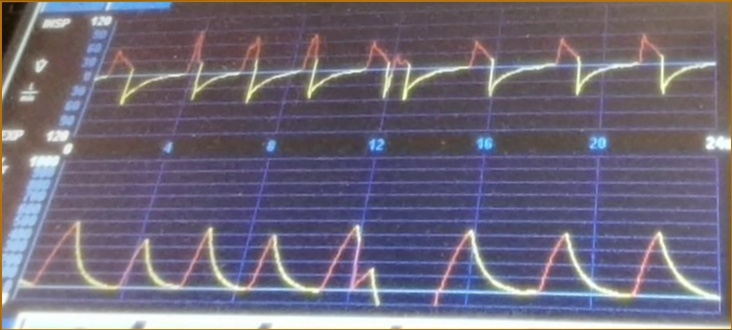Double_Triggering Flow: (107, 24, 715, 127)
Double_Triggering Volume: (39, 202, 717, 311)
